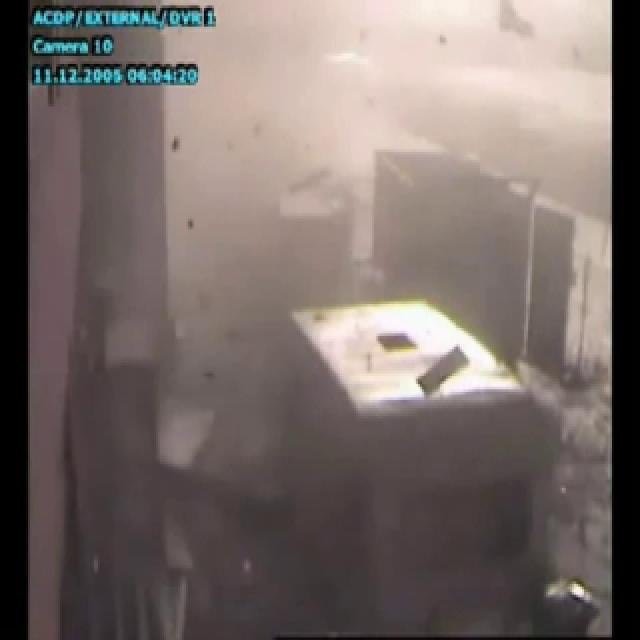explosion: (118, 26, 577, 382)
